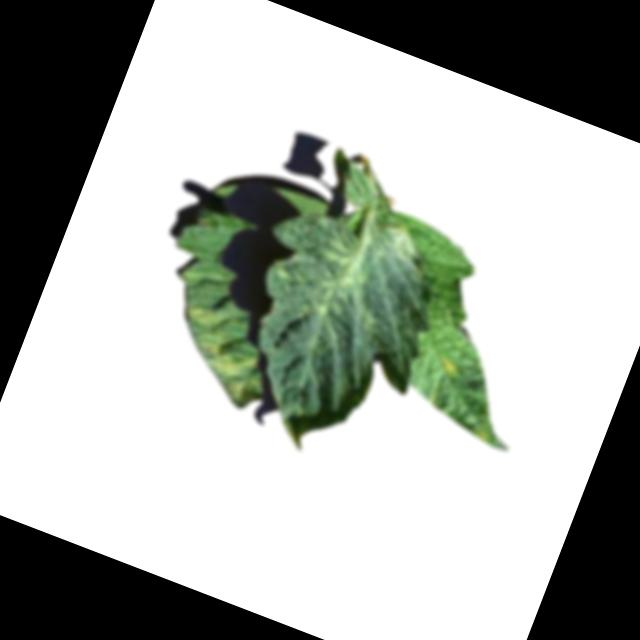Leaf_Mold: (176, 327, 264, 408), (375, 224, 432, 274), (177, 297, 224, 333), (432, 351, 468, 382), (468, 423, 494, 445)
